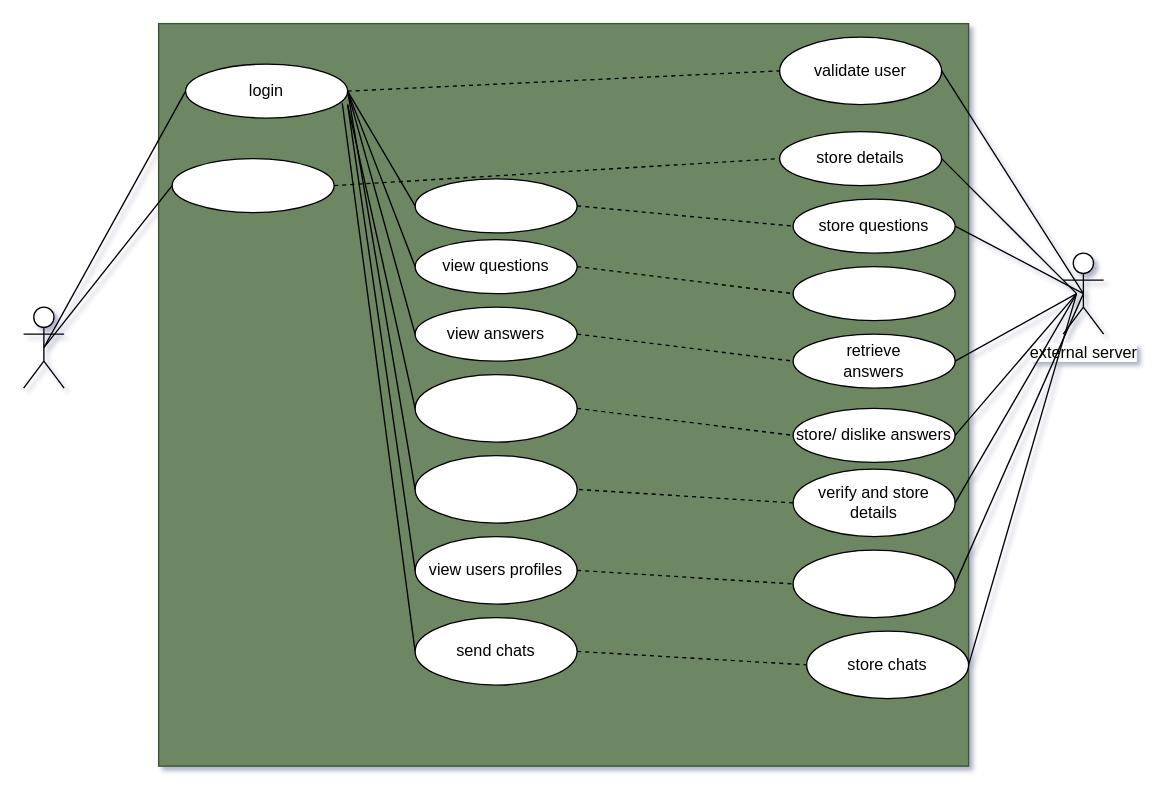
This 1168x798 diagram has some shape labels left out. The centre of each missing label's shape, as x and y in pixels:
"create profile" belongs at point (495, 488).
"like/dislike answer" belongs at point (495, 407).
"post question" belongs at point (495, 205).
"Register" belongs at point (252, 185).
"retrieve profile details" belongs at point (873, 583).
"retrieve question" belongs at point (873, 293).
"User" belongs at point (43, 347).
